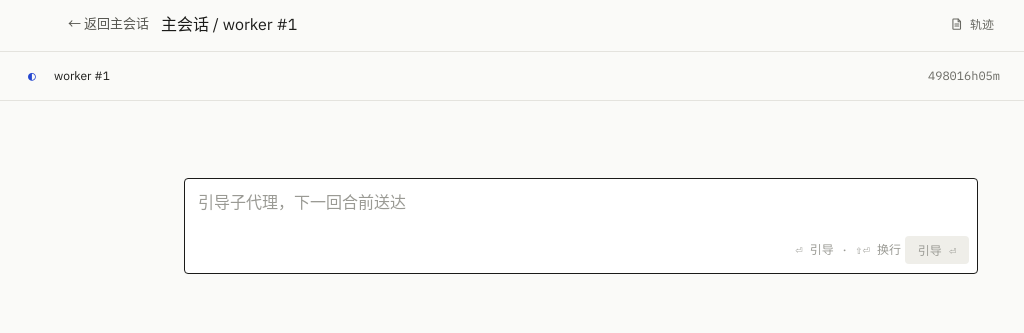
Test case: SubagentChat steer box › keeps the text and shows the server's reason when the steer is refused
This screenshot has width=1024, height=333.
Type "只检查侧栏" into the text box with test id "subagent-steer-input" at (581, 206), box [193,186,969,226]
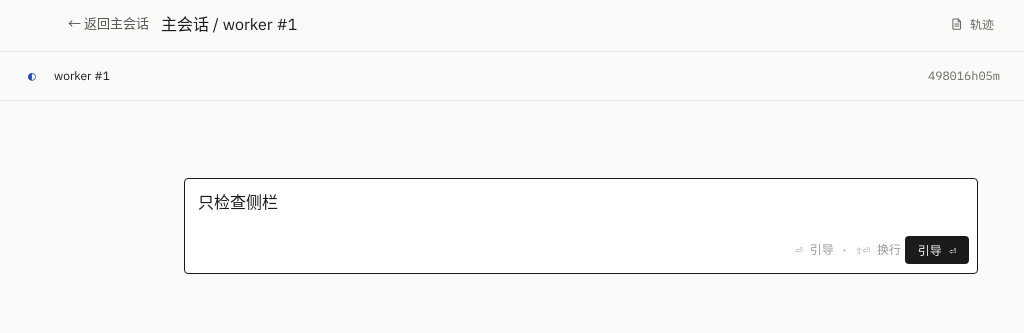
Click the button with test id "subagent-steer-send" at (937, 250), box [905,236,969,264]
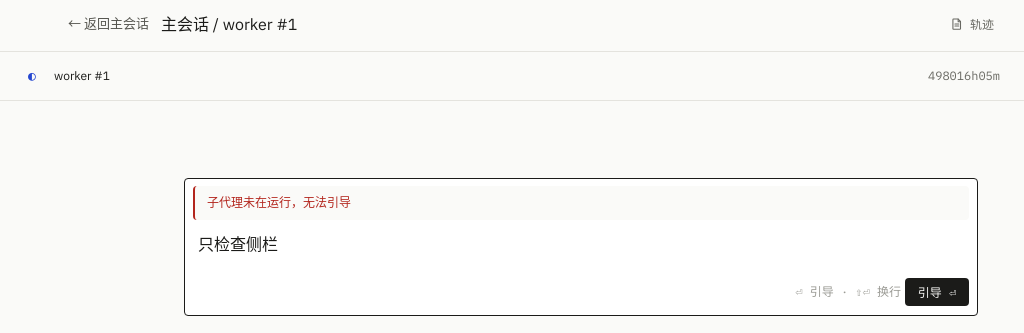
Result: the message reads "子代理未在运行，无法引导" at [207,194,351,210]
